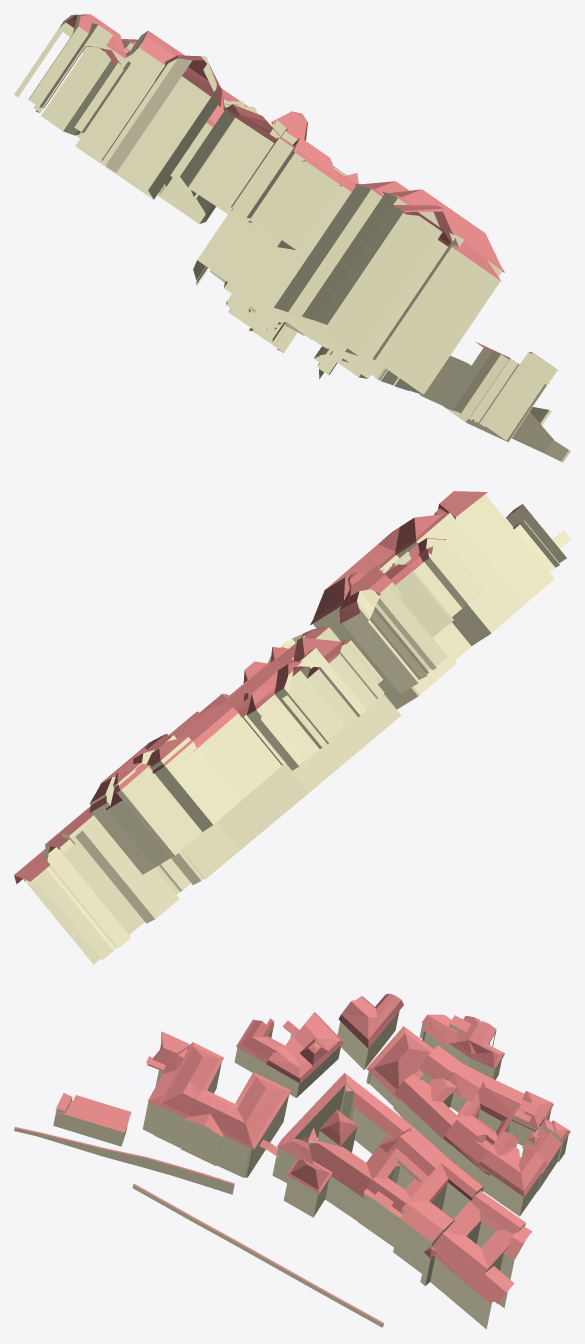
File: tile_035.glb
The picture shows the model from 3 angles, top to bottom: view 1: azimuth 30°, elevation 25°; view 2: azimuth 150°, elevation 25°; view 3: azimuth 270°, elevation 25°; orthographic projection. The views are drawn at different scales.
Parts seen in each view (by area): view 1: Batched_Building_ID_9B538DEF-204C-4881-AEA9-CA41325CFCF5, Batched_Building_ID_EAA6D91E-3172-4E70-AE3F-48D9DBE3E58D; view 2: Batched_Building_ID_9B538DEF-204C-4881-AEA9-CA41325CFCF5, Batched_Building_ID_EAA6D91E-3172-4E70-AE3F-48D9DBE3E58D; view 3: Batched_Building_ID_EAA6D91E-3172-4E70-AE3F-48D9DBE3E58D, Batched_Building_ID_9B538DEF-204C-4881-AEA9-CA41325CFCF5.
Part boxes in pixels (x1=…): Batched_Building_ID_9B538DEF-204C-4881-AEA9-CA41325CFCF5: x1=14, y1=15, x2=570, y2=462; Batched_Building_ID_EAA6D91E-3172-4E70-AE3F-48D9DBE3E58D: x1=66, y1=14, x2=558, y2=440; Batched_Building_ID_9B538DEF-204C-4881-AEA9-CA41325CFCF5: x1=24, y1=494, x2=570, y2=964; Batched_Building_ID_EAA6D91E-3172-4E70-AE3F-48D9DBE3E58D: x1=14, y1=491, x2=523, y2=883; Batched_Building_ID_EAA6D91E-3172-4E70-AE3F-48D9DBE3E58D: x1=14, y1=993, x2=570, y2=1323; Batched_Building_ID_9B538DEF-204C-4881-AEA9-CA41325CFCF5: x1=14, y1=1011, x2=568, y2=1328.
Size of the model in its own units: 115 by 122 by 233.
